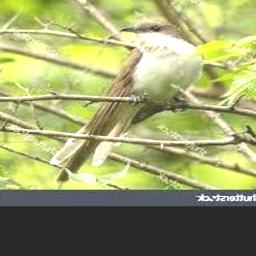Cuckoo: (51, 19, 200, 182)
